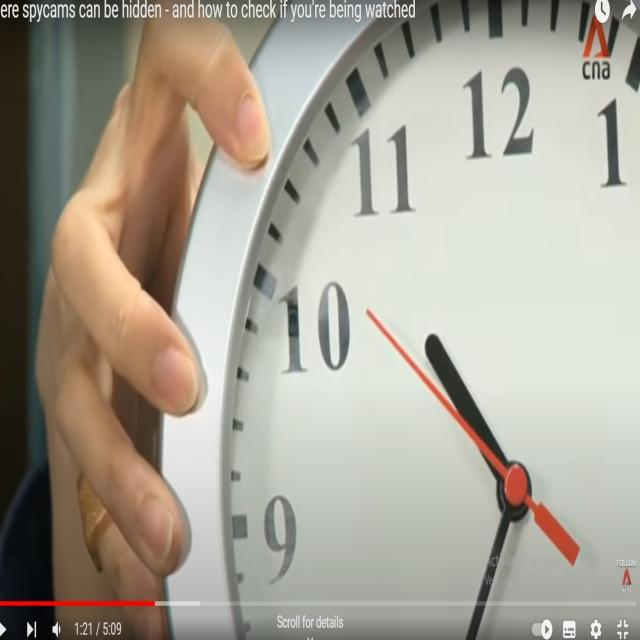hidden camera: (288, 311, 298, 334)
